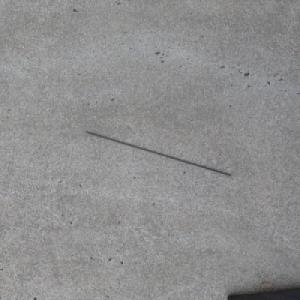LuggagePart: (81, 130, 232, 177)
